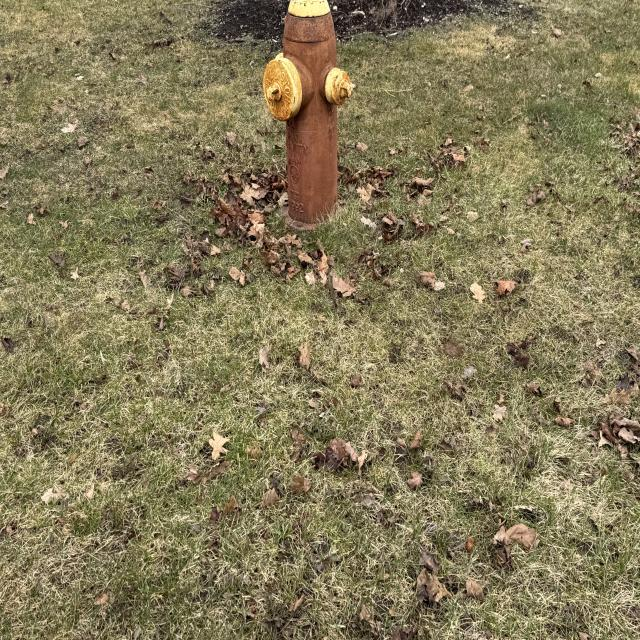Fire hydrant: (260, 1, 358, 227)
